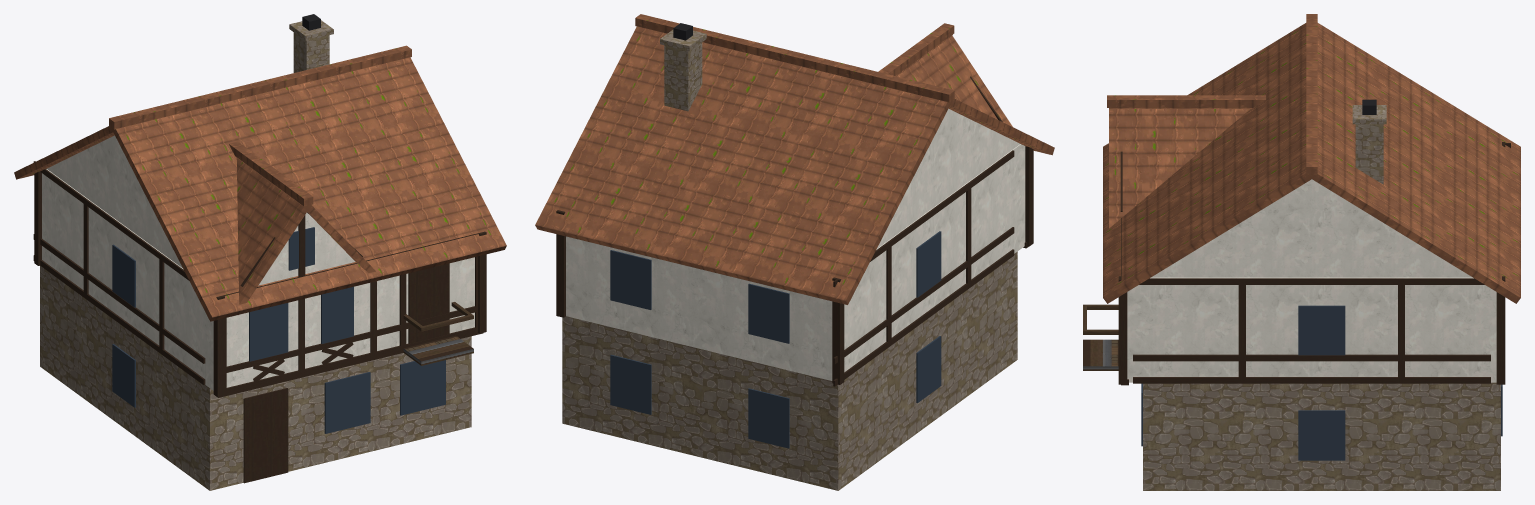
The model's file is timber_house.glb.
3 renders of one model, left to right at view 1: azimuth 30°, elevation 25°; view 2: azimuth 150°, elevation 25°; view 3: azimuth 270°, elevation 25°, orthographic. The views are drawn at different scales.
Parts seen in each view (by area): view 1: timber_house; view 2: timber_house; view 3: timber_house.
Part boxes in pixels (x1=…): timber_house: x1=14, y1=14, x2=506, y2=490; timber_house: x1=535, y1=14, x2=1054, y2=490; timber_house: x1=1083, y1=14, x2=1520, y2=490.
Bounding box in the file's own units: 9.1 × 10.02 × 11.
6 materials, 4 textured.
